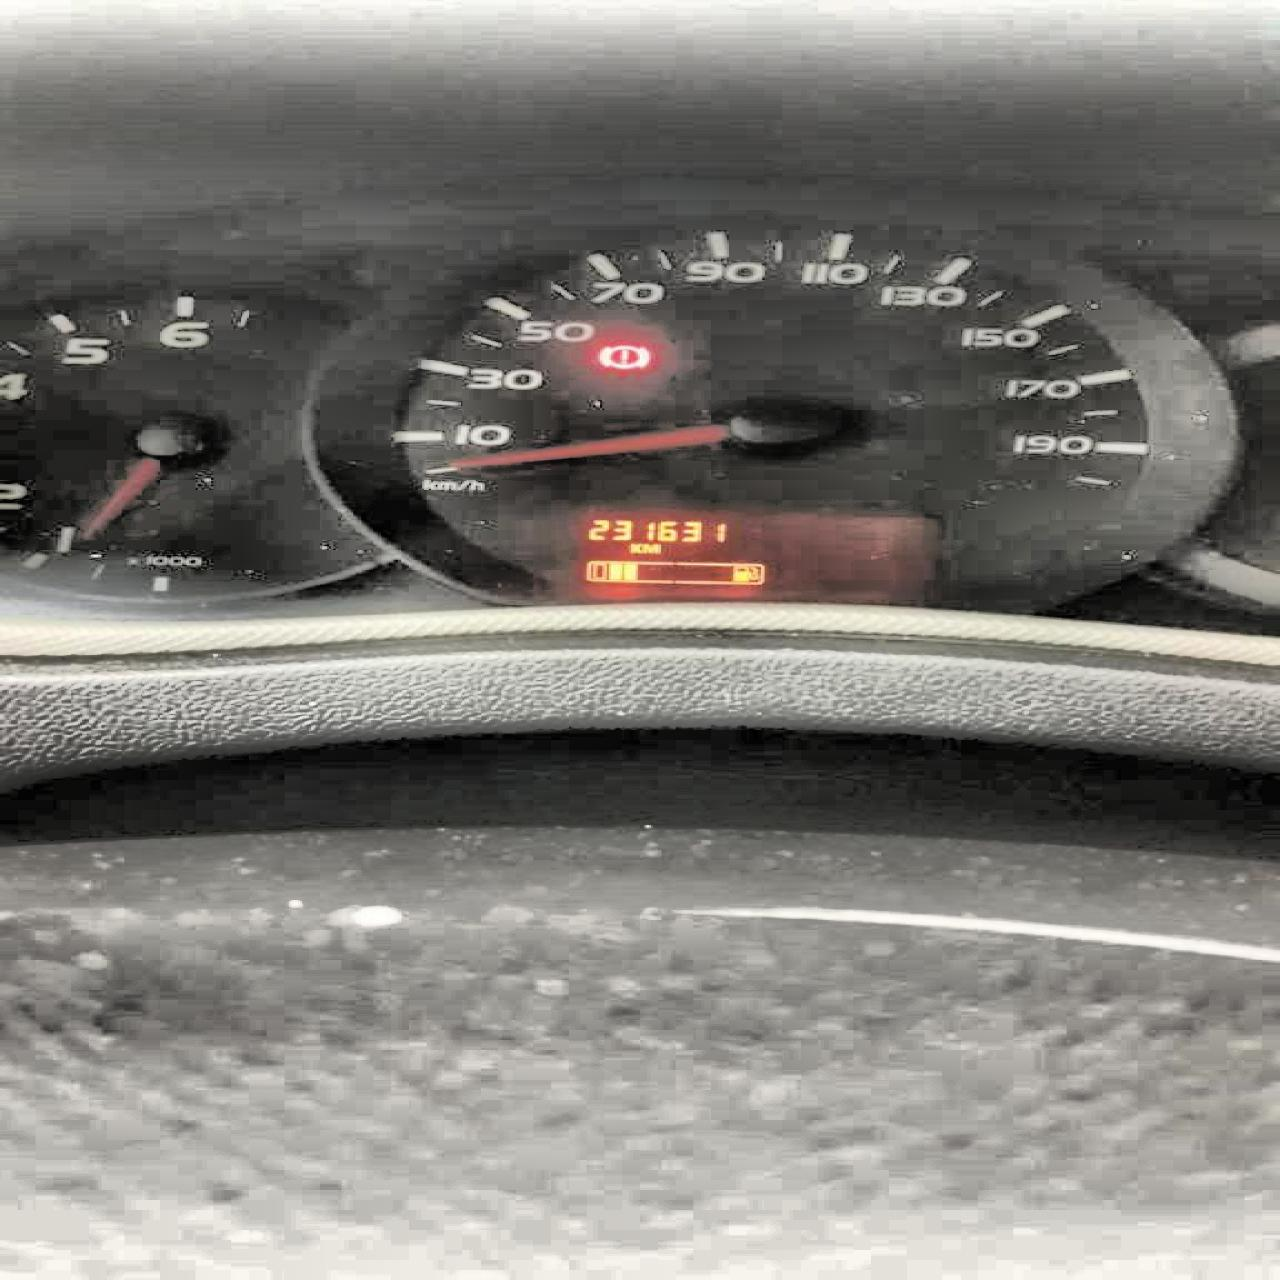1: (712, 522, 727, 543), (640, 519, 653, 540)
2: (583, 518, 607, 540)
3: (610, 518, 631, 540), (680, 520, 700, 542)
6: (655, 519, 678, 542)
X: (640, 542, 658, 552), (629, 543, 640, 553)
odometer: (573, 505, 945, 607)
